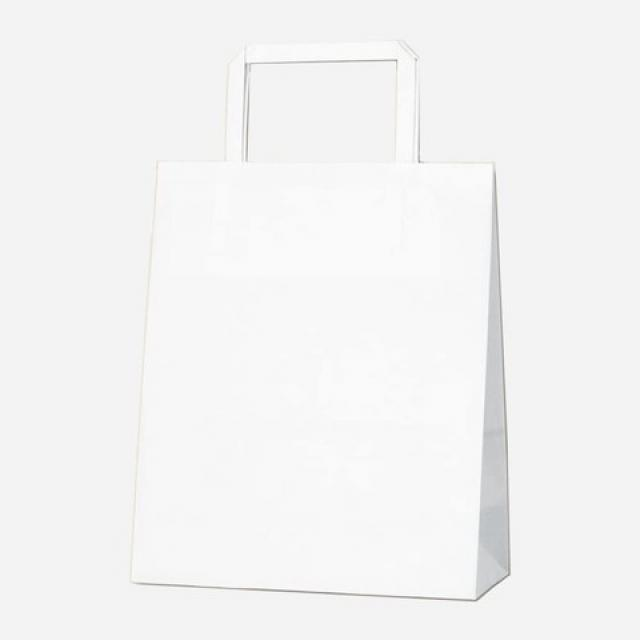paper bag: (122, 34, 514, 607)
